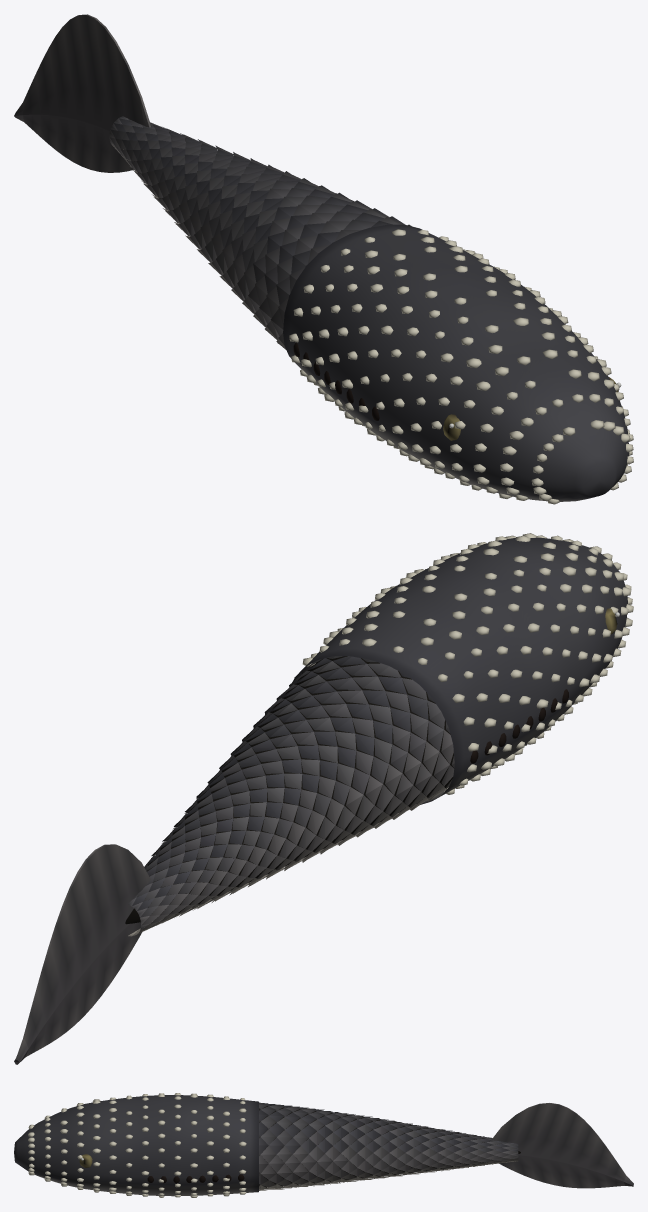
File: AstraspisDesiderata.fbx
3 views of the same model, one above another, from view 1: azimuth 30°, elevation 25°; view 2: azimuth 150°, elevation 25°; view 3: azimuth 270°, elevation 25° (orthographic). The views are drawn at different scales.
Parts seen in each view (by area): view 1: AstraspisDesiderata; view 2: AstraspisDesiderata; view 3: AstraspisDesiderata.
Part boxes in pixels (box(x1,y1,x2,y2)): AstraspisDesiderata: box(14, 14, 633, 504); AstraspisDesiderata: box(14, 533, 633, 1064); AstraspisDesiderata: box(14, 1093, 633, 1197).
Bounding box in the file's own units: 0.3491 × 0.2685 × 1.72.
